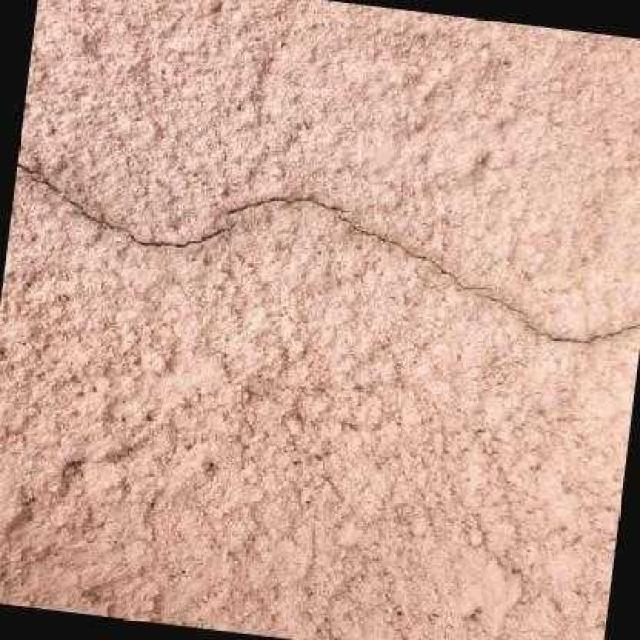D00: (338, 215, 490, 288), (62, 197, 235, 246), (520, 316, 640, 341), (227, 196, 307, 212), (472, 291, 523, 312), (30, 176, 60, 192), (309, 199, 348, 211), (17, 160, 43, 174)
